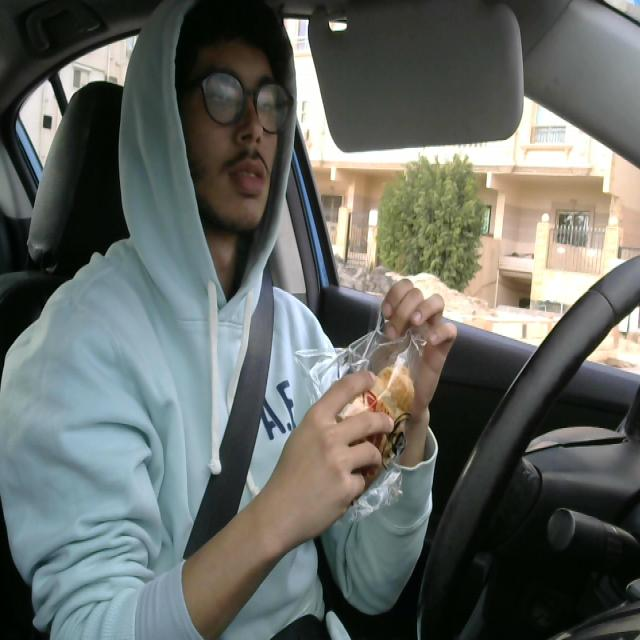eating: (292, 298, 434, 516)
